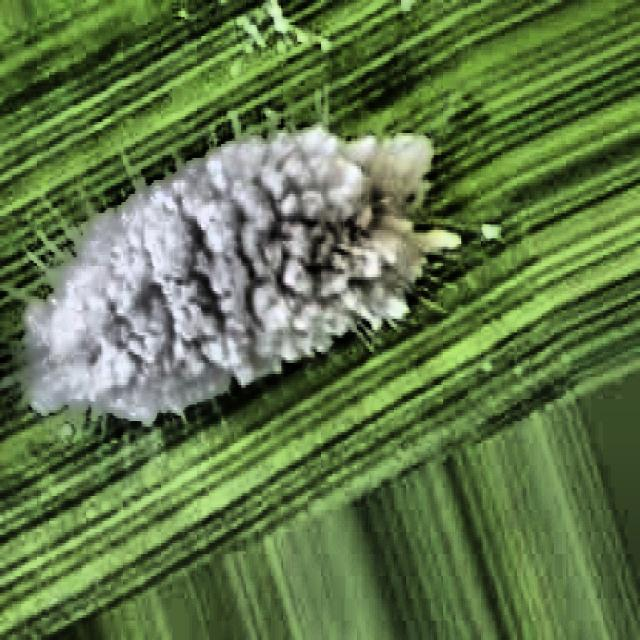Mealy-bug: (3, 77, 513, 565)
